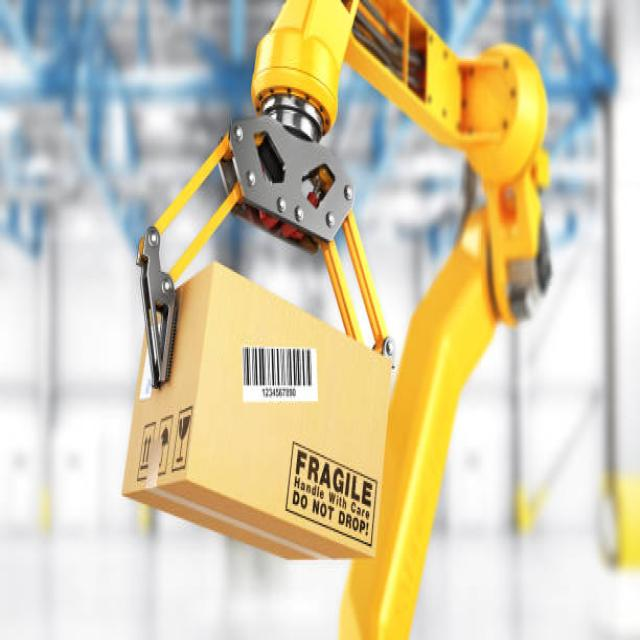Robotic-arm: (134, 0, 564, 640)
